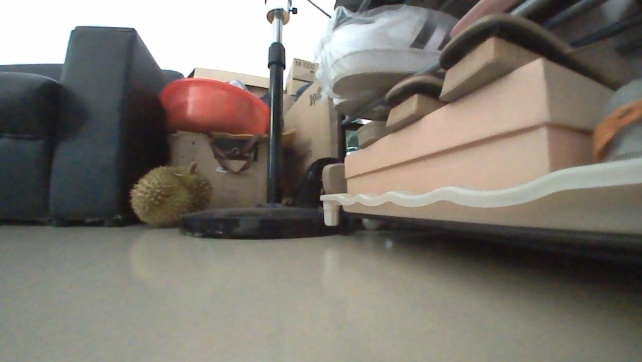chair_base: (176, 197, 336, 240)
sofa1: (0, 21, 184, 225)
wire: (305, 0, 332, 20)
